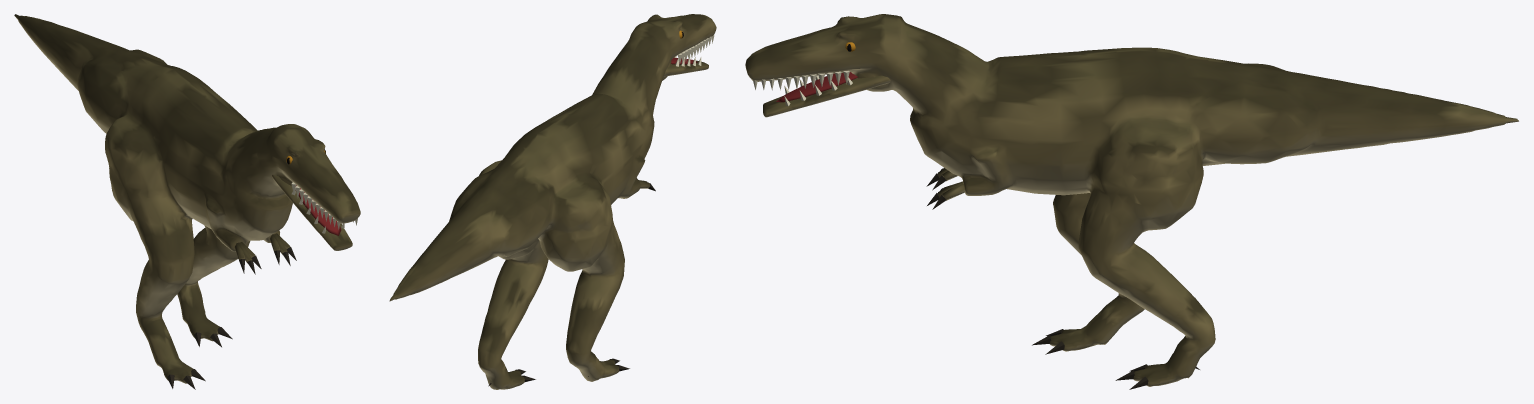
File: Megalosaurus.fbx
3 renders of one model, left to right at view 1: azimuth 30°, elevation 25°; view 2: azimuth 150°, elevation 25°; view 3: azimuth 270°, elevation 25°, orthographic. The views are drawn at different scales.
Visible parts, largest first — view 1: Megalosaurus; view 2: Megalosaurus; view 3: Megalosaurus.
Boxes of the visible parts, <box> form: Megalosaurus: <box>14,14,360,389</box>; Megalosaurus: <box>389,14,716,389</box>; Megalosaurus: <box>745,14,1518,389</box>.
Size of the model in its own units: 0.6333 by 1.43 by 2.89.
